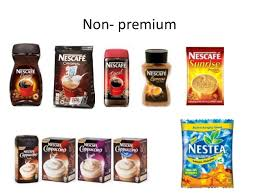nescafe-classic/gold-small: (51, 44, 96, 109), (185, 45, 226, 107), (10, 42, 44, 107), (141, 49, 172, 110), (103, 48, 130, 107)
